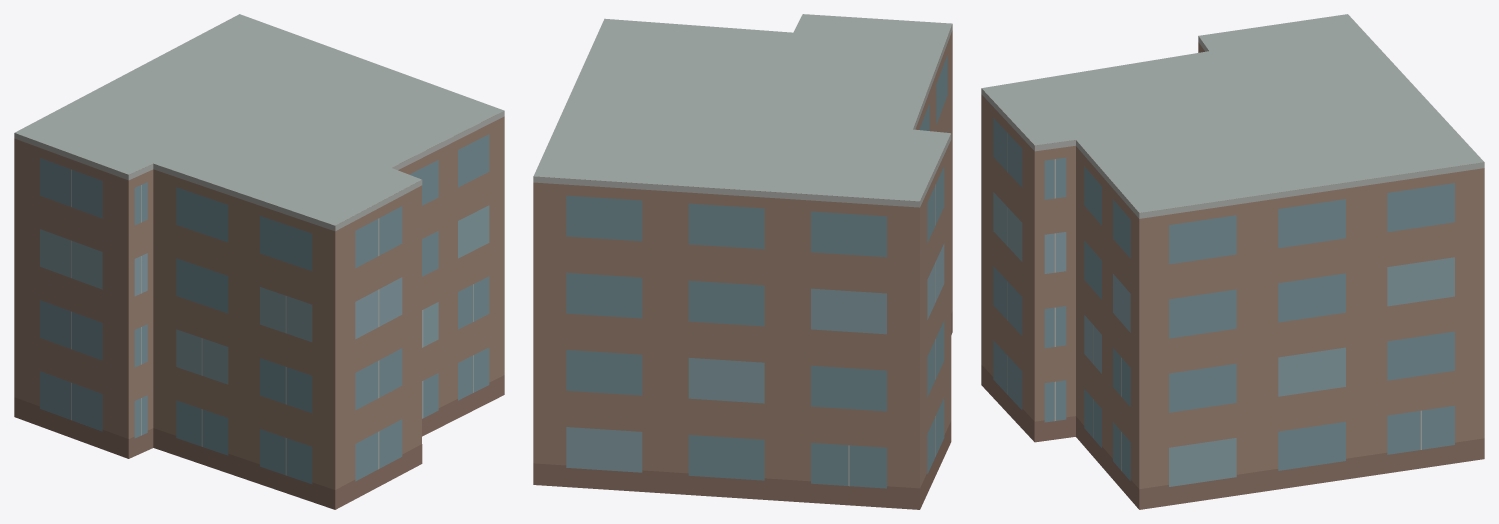
The model's file is survey-upis-32864414.glb.
3 renders of one model, left to right at view 1: azimuth 30°, elevation 25°; view 2: azimuth 150°, elevation 25°; view 3: azimuth 270°, elevation 25°, orthographic. The views are drawn at different scales.
Visible parts, largest first — view 1: survey-upis-32864414.tmp; view 2: survey-upis-32864414.tmp; view 3: survey-upis-32864414.tmp.
Part boxes in pixels (bbox=[...]): survey-upis-32864414.tmp: bbox=[14, 14, 504, 509]; survey-upis-32864414.tmp: bbox=[533, 14, 952, 509]; survey-upis-32864414.tmp: bbox=[981, 14, 1484, 509].
Size of the model in its own units: 17.7 by 12.3 by 18.9.
